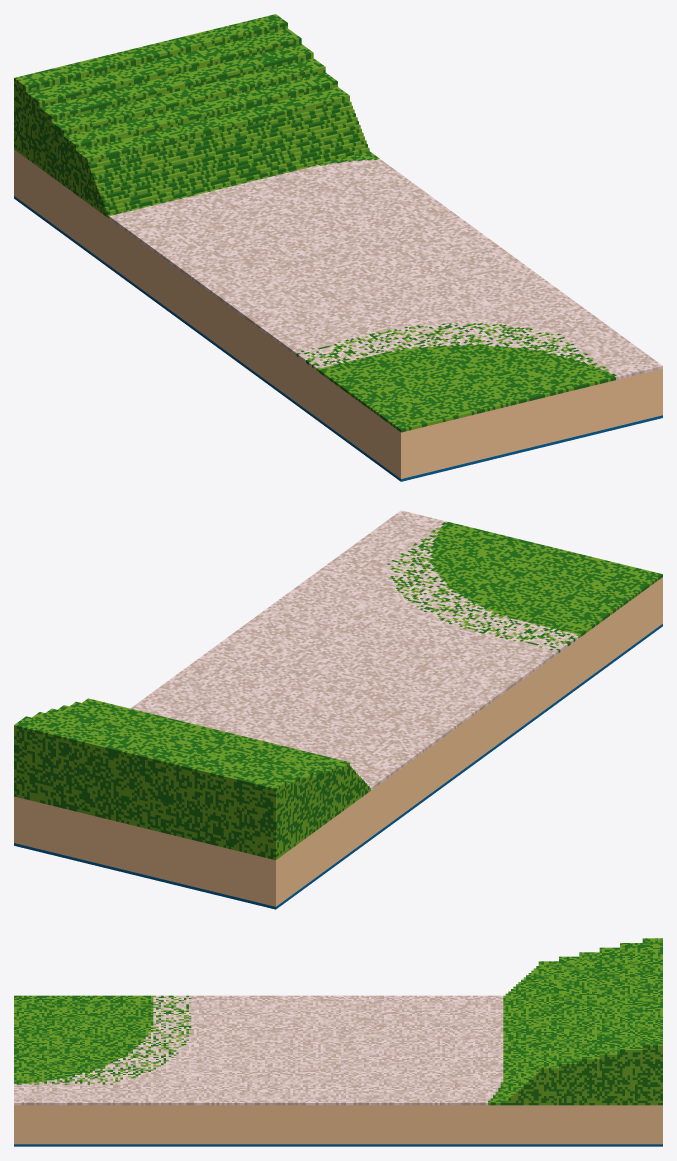
Rendered from castelloVillafranca-37.obj.
3 renders of one model, top to bottom at view 1: azimuth 30°, elevation 25°; view 2: azimuth 150°, elevation 25°; view 3: azimuth 270°, elevation 25°, orthographic. The views are drawn at different scales.
Size of the model in its own units: 10 by 4.4 by 25.6.
Materials: 1 (1 with a texture image).
